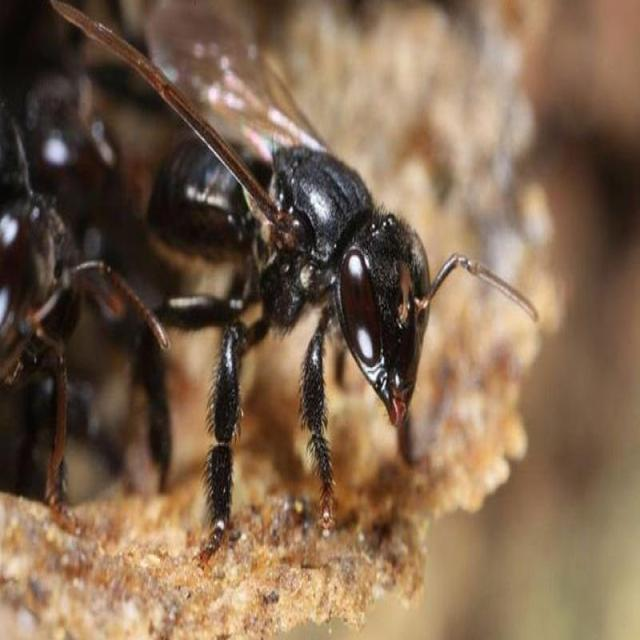Meliponula: (41, 0, 548, 546), (0, 46, 174, 575)
